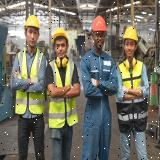Helmet: (52, 28, 70, 47), (24, 15, 40, 32), (91, 15, 107, 32), (122, 26, 138, 42)
Vest: (116, 60, 148, 134), (48, 58, 79, 130), (15, 47, 45, 116)
